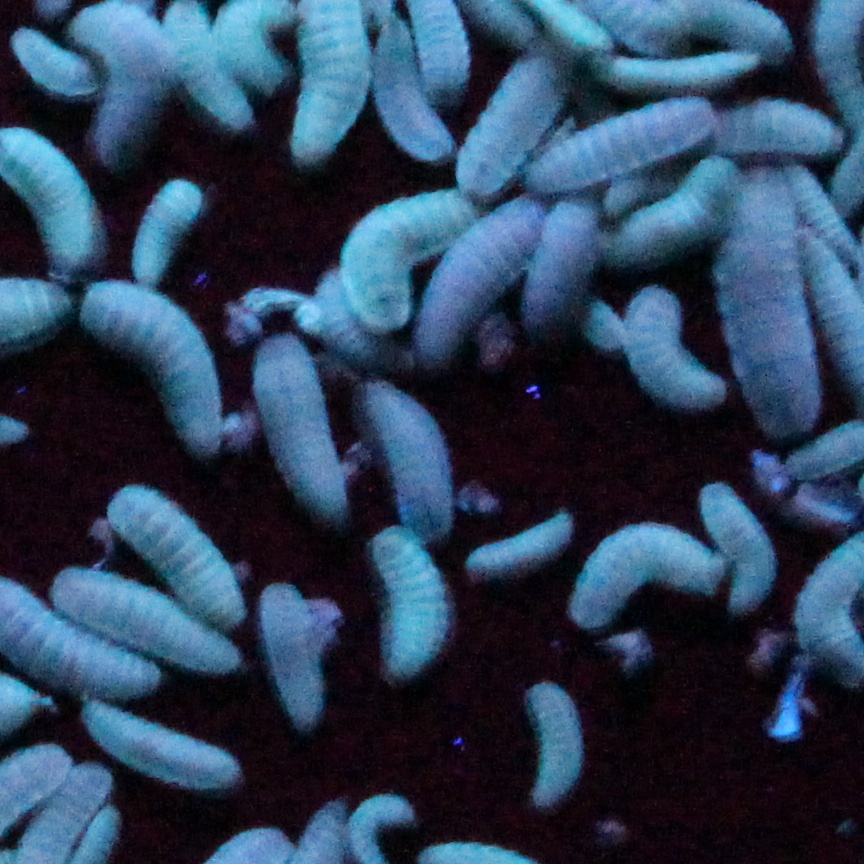larve: (704, 159, 822, 428), (77, 279, 217, 453), (413, 195, 544, 368), (246, 331, 355, 533), (49, 566, 242, 677), (97, 488, 246, 626), (453, 30, 578, 191), (351, 370, 466, 540), (329, 182, 462, 322), (533, 88, 715, 190), (80, 695, 240, 802), (607, 151, 733, 279), (362, 11, 464, 166), (624, 282, 733, 420), (569, 524, 718, 620), (367, 520, 457, 671), (80, 2, 166, 159), (517, 190, 600, 350), (258, 579, 340, 737), (682, 95, 844, 168), (509, 673, 586, 810), (700, 479, 777, 606), (589, 40, 757, 90), (462, 510, 578, 573), (133, 173, 200, 280), (8, 28, 102, 91)
